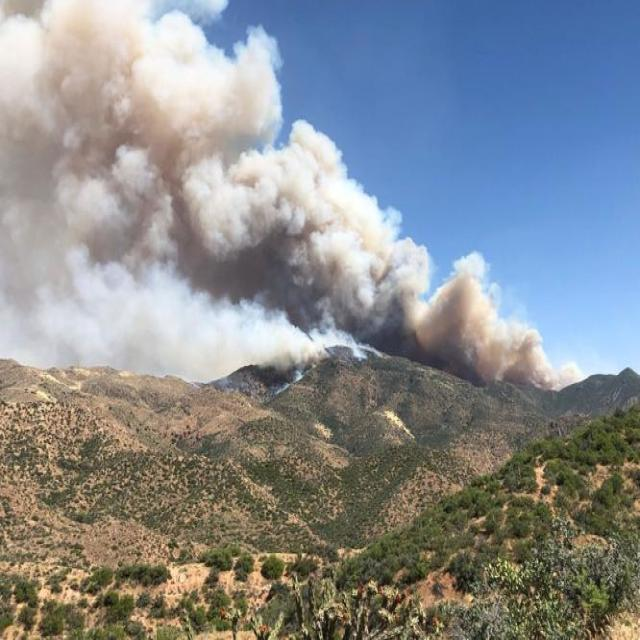Smoke: (0, 0, 590, 390)
